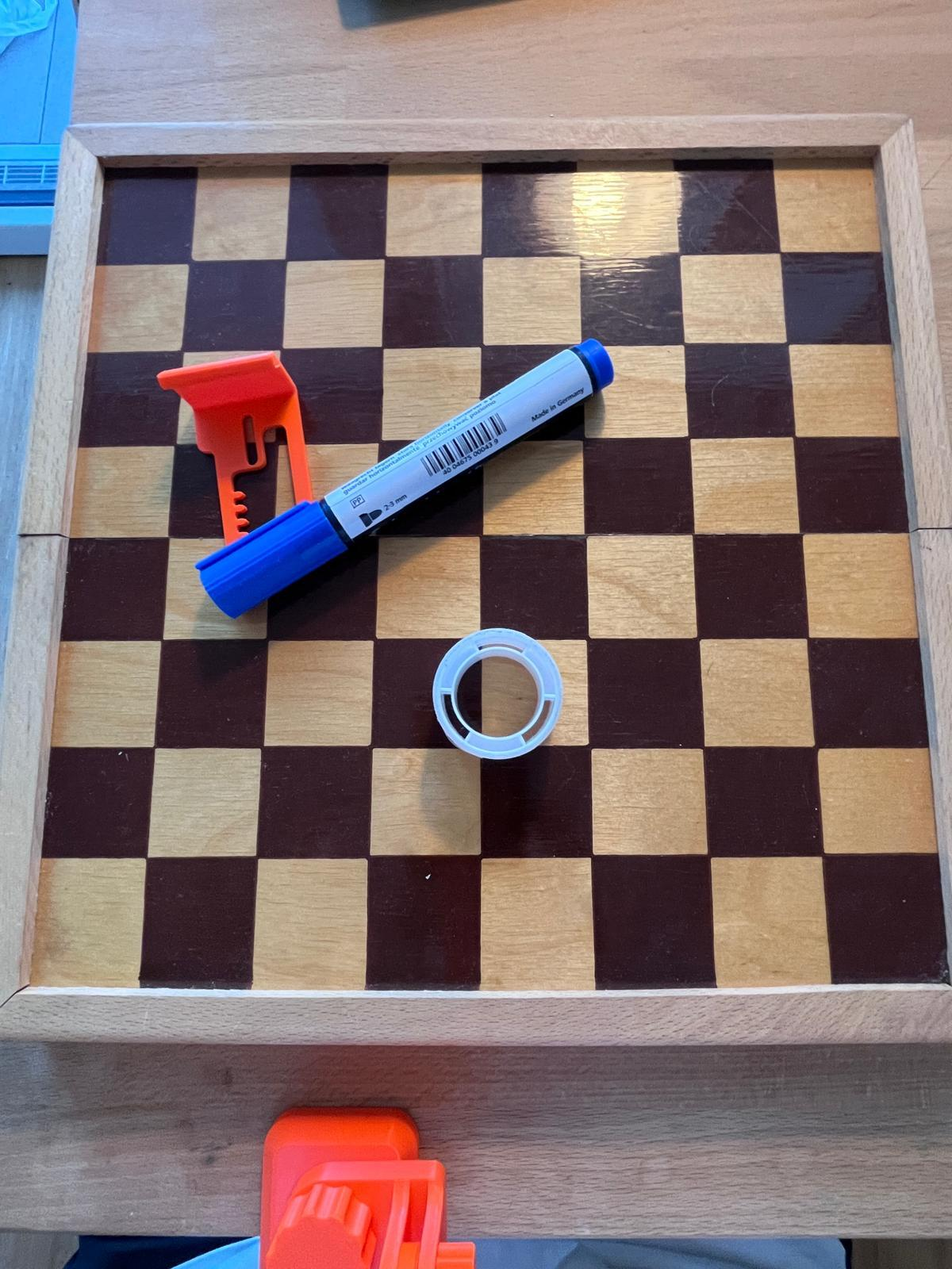clipper: (152, 346, 313, 554)
marker: (200, 330, 617, 619)
tape: (432, 627, 565, 765)
